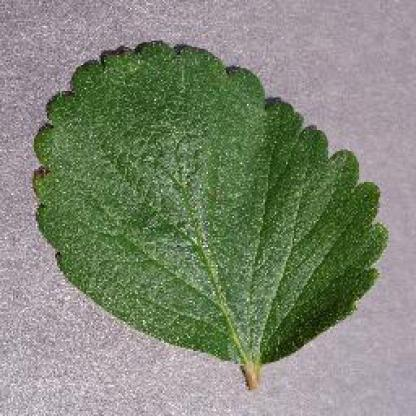healthy: (29, 32, 393, 392)
